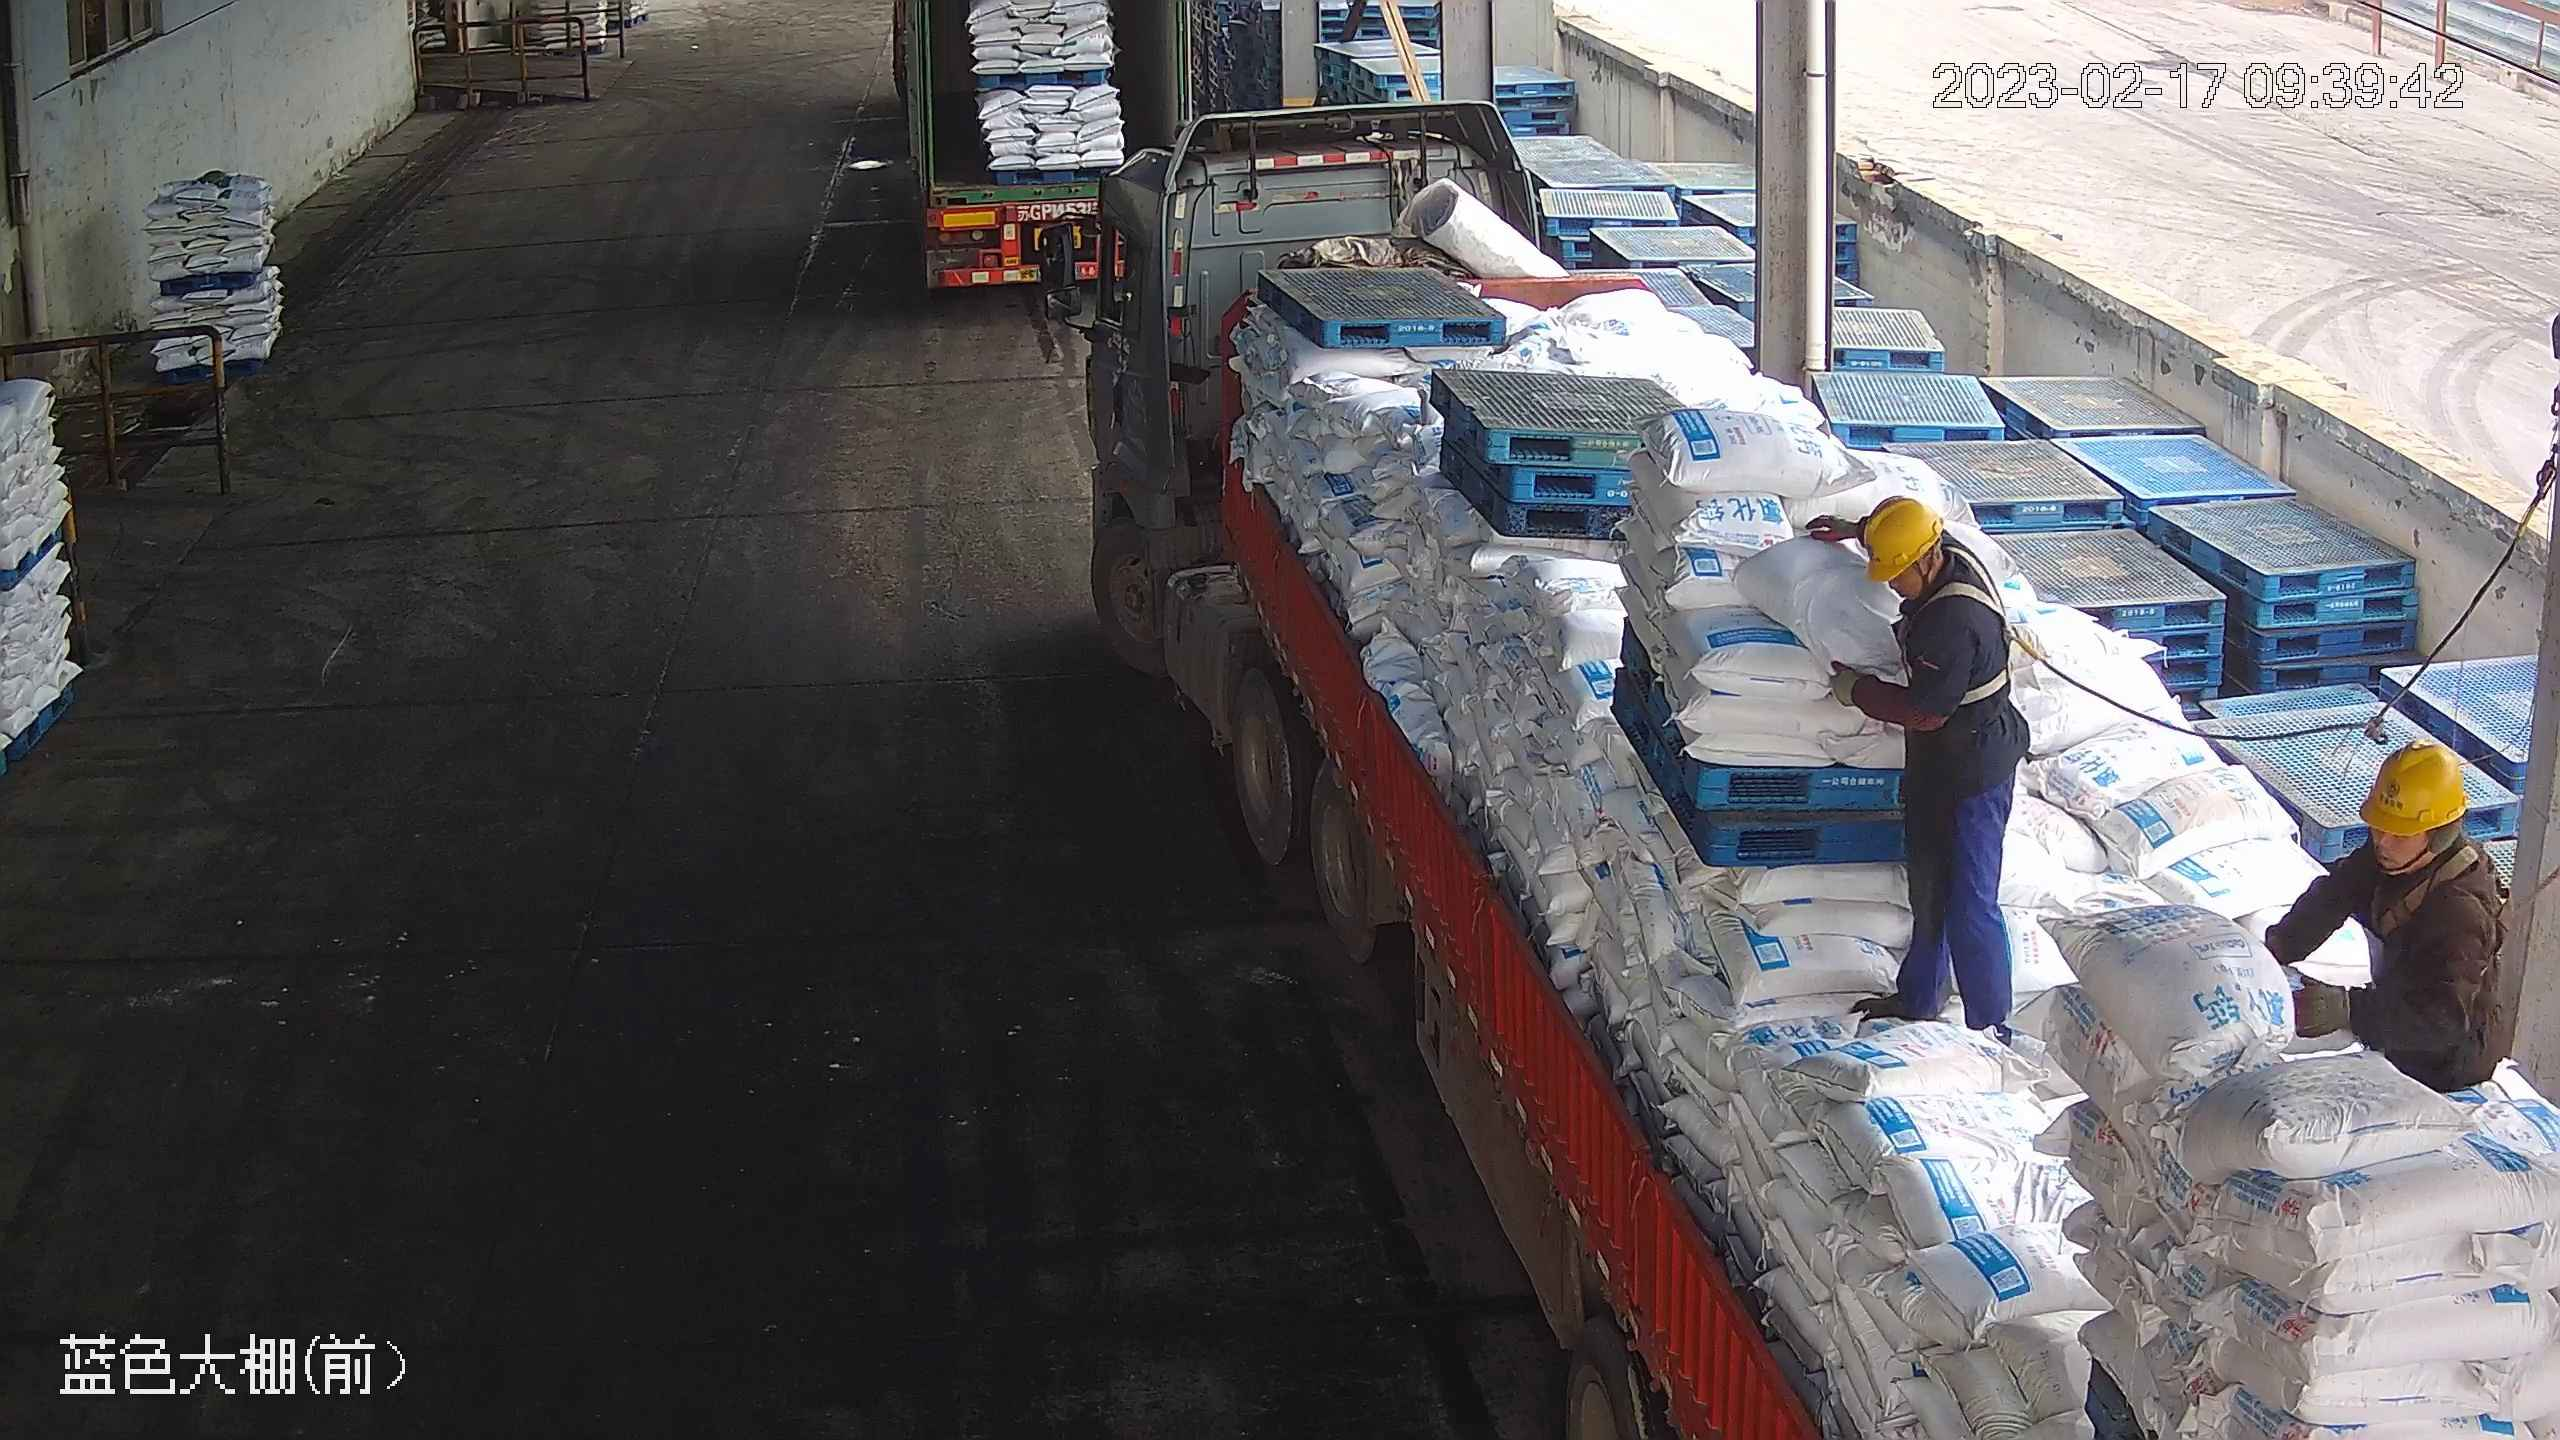belt: (1925, 554, 2028, 708), (2364, 847, 2505, 946)
head: (2327, 738, 2508, 936), (1854, 496, 2012, 645)
helmet: (2356, 738, 2470, 832), (1858, 494, 1947, 583)
people: (1814, 497, 2035, 1038), (2261, 748, 2515, 1099)
truck: (1042, 100, 2551, 1438), (891, 1, 1187, 293)
